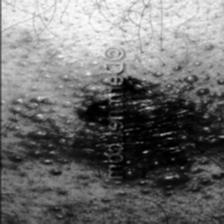Unclassified: (11, 29, 102, 198), (134, 44, 224, 198)
